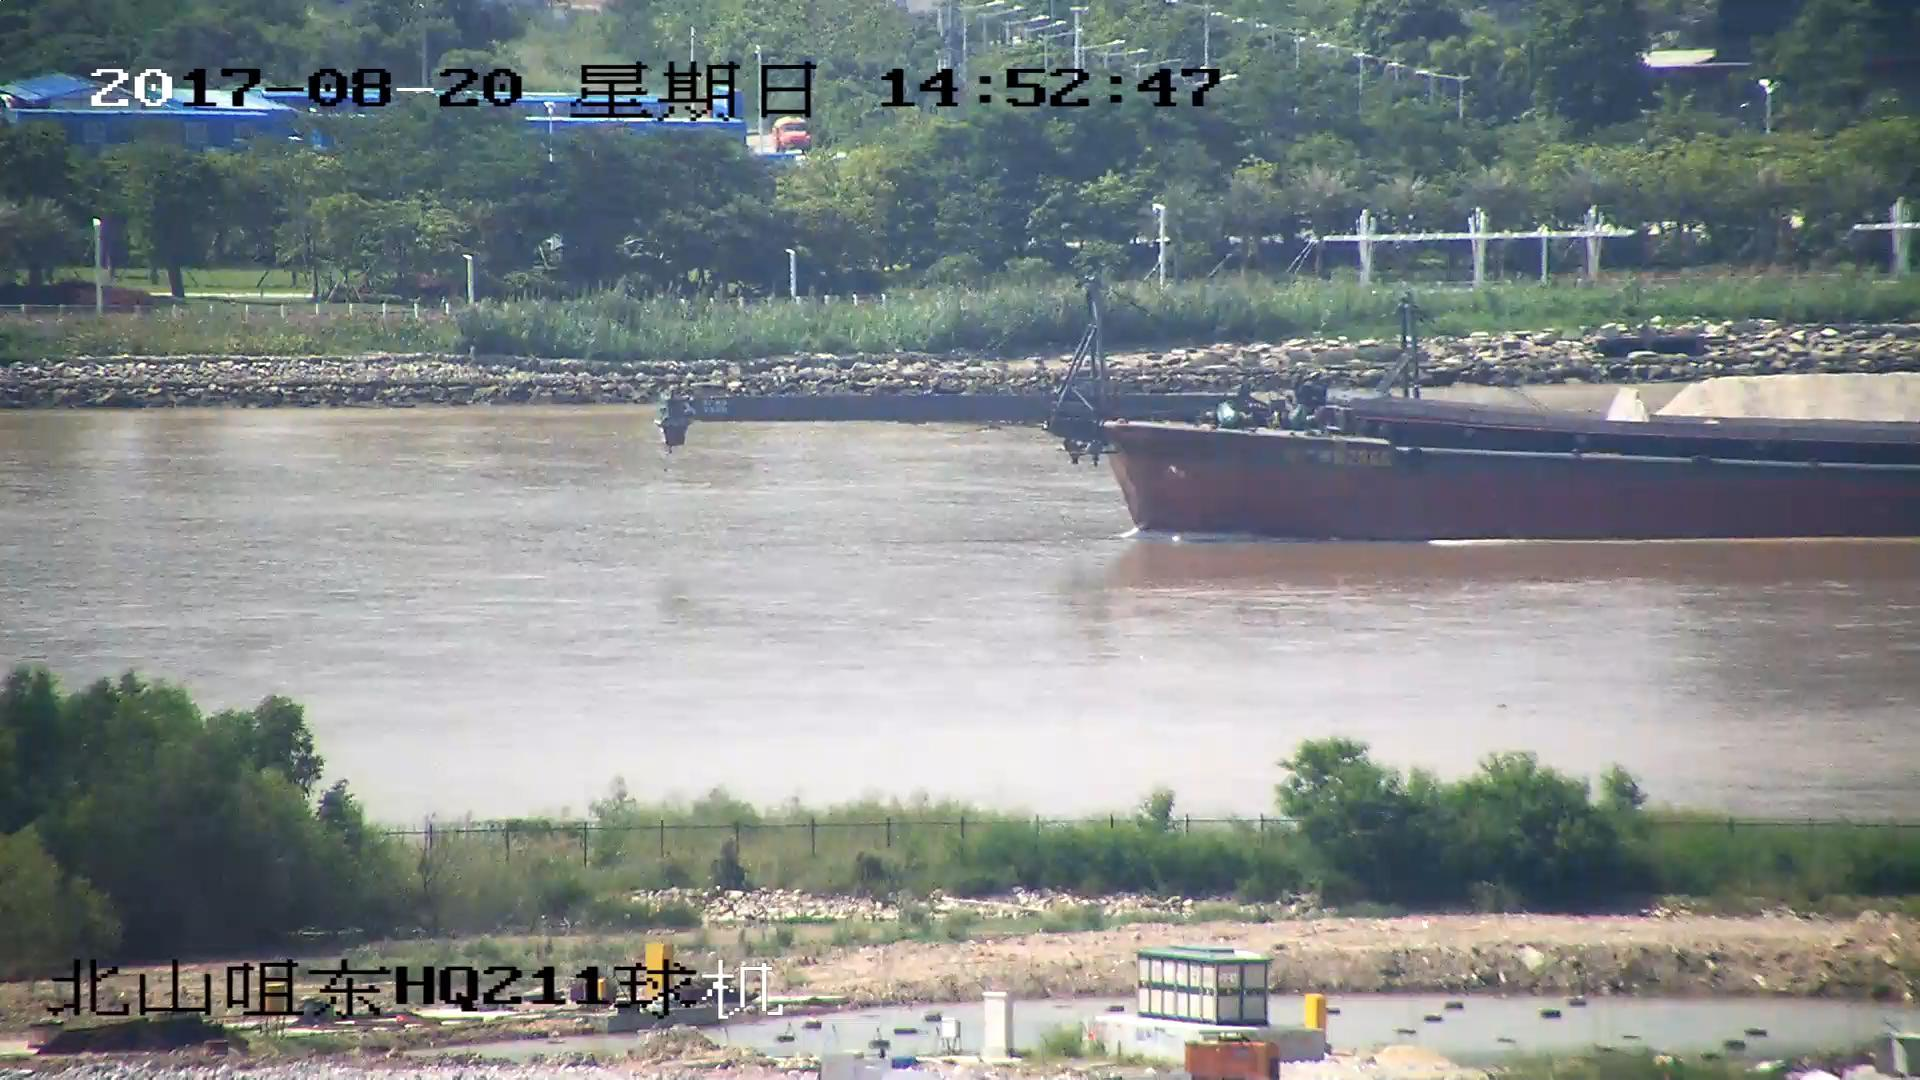Ship: (673, 295, 1920, 545), (1021, 368, 1920, 477)
